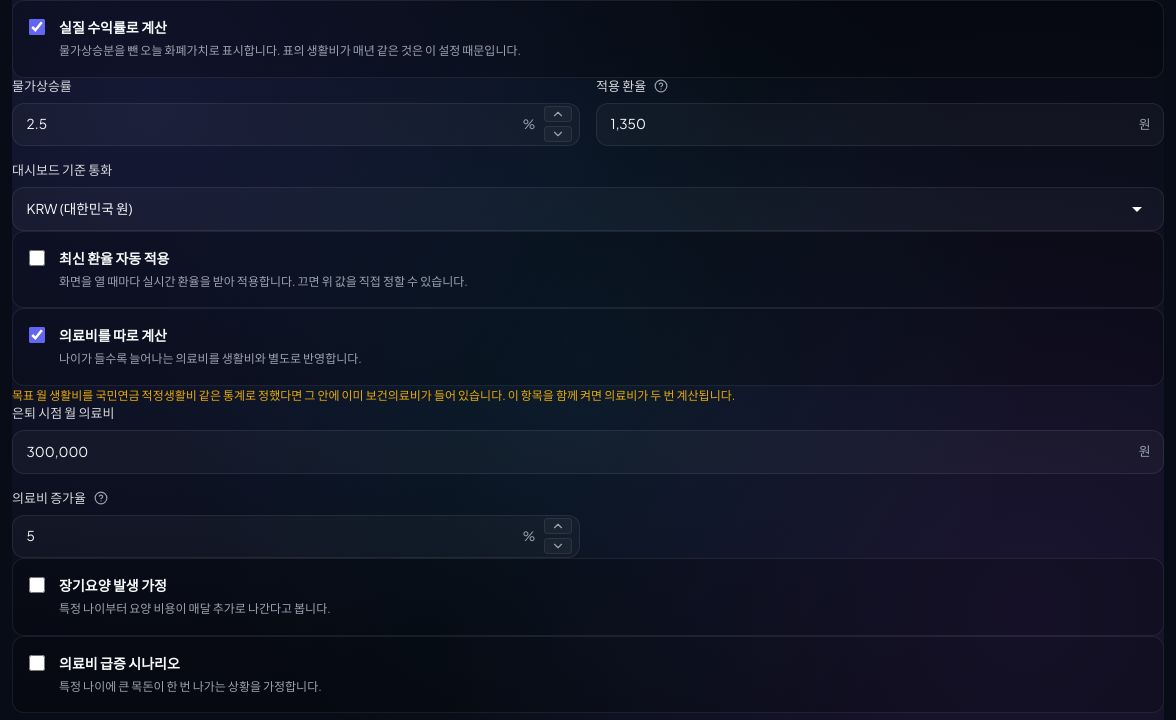
Test case: EconomicAssumptionSection 소수 입력 › 금액을 지우면 0으로 저장하되 화면은 빈 칸으로 남는다
The width and height of the screenshot is (1176, 720).
Step 1. Clear the field named "은퇴 시점 월 의료비" → (588, 452), box [12,430,1164,474]
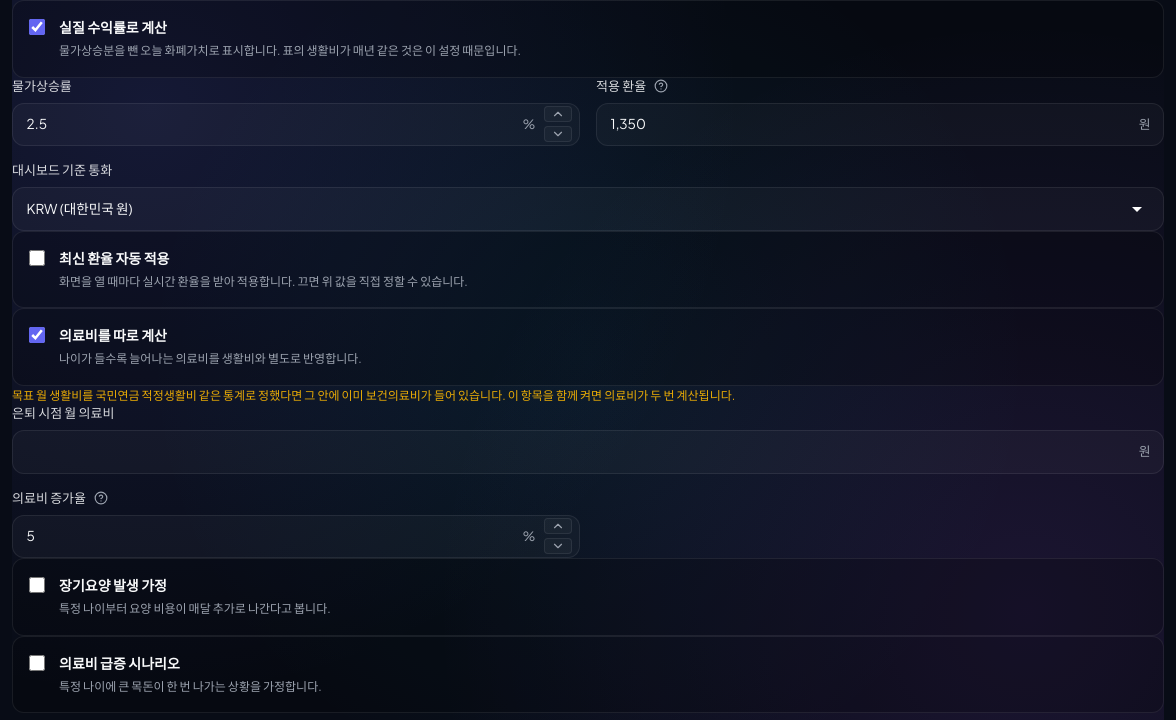
Step 2. Type "500000" into the field named "은퇴 시점 월 의료비" → (588, 452), box [12,430,1164,474]
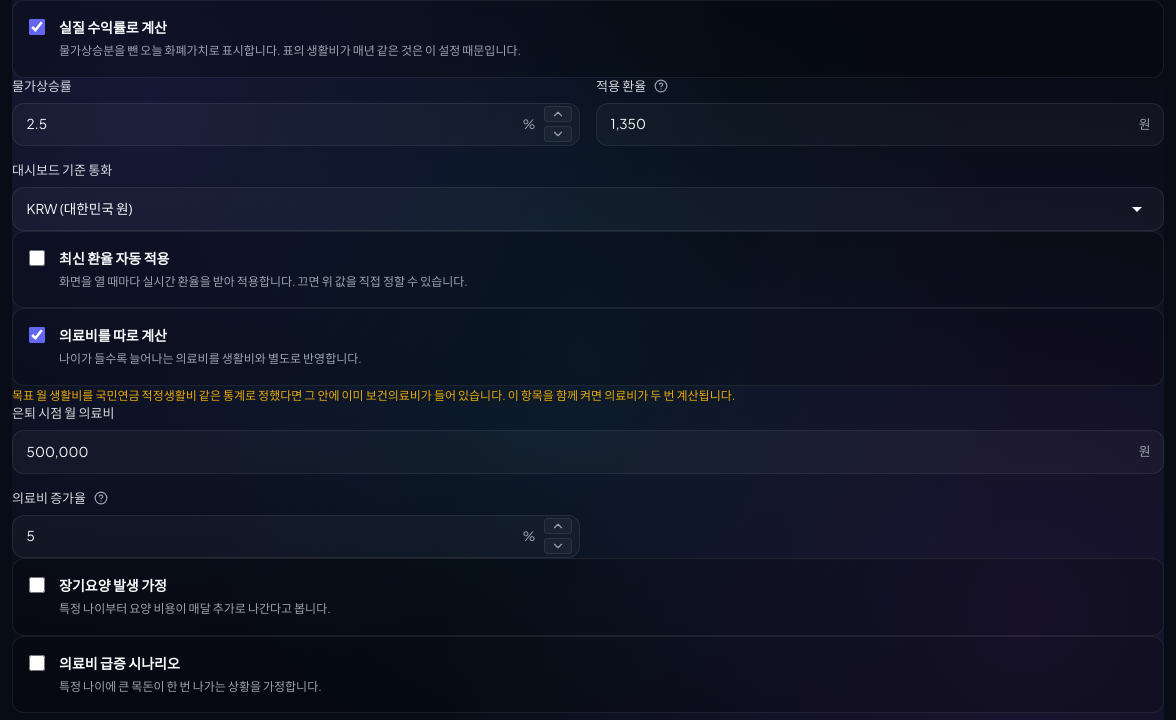
Now the field named "은퇴 시점 월 의료비" holds "500,000", box [12,430,1164,474]
